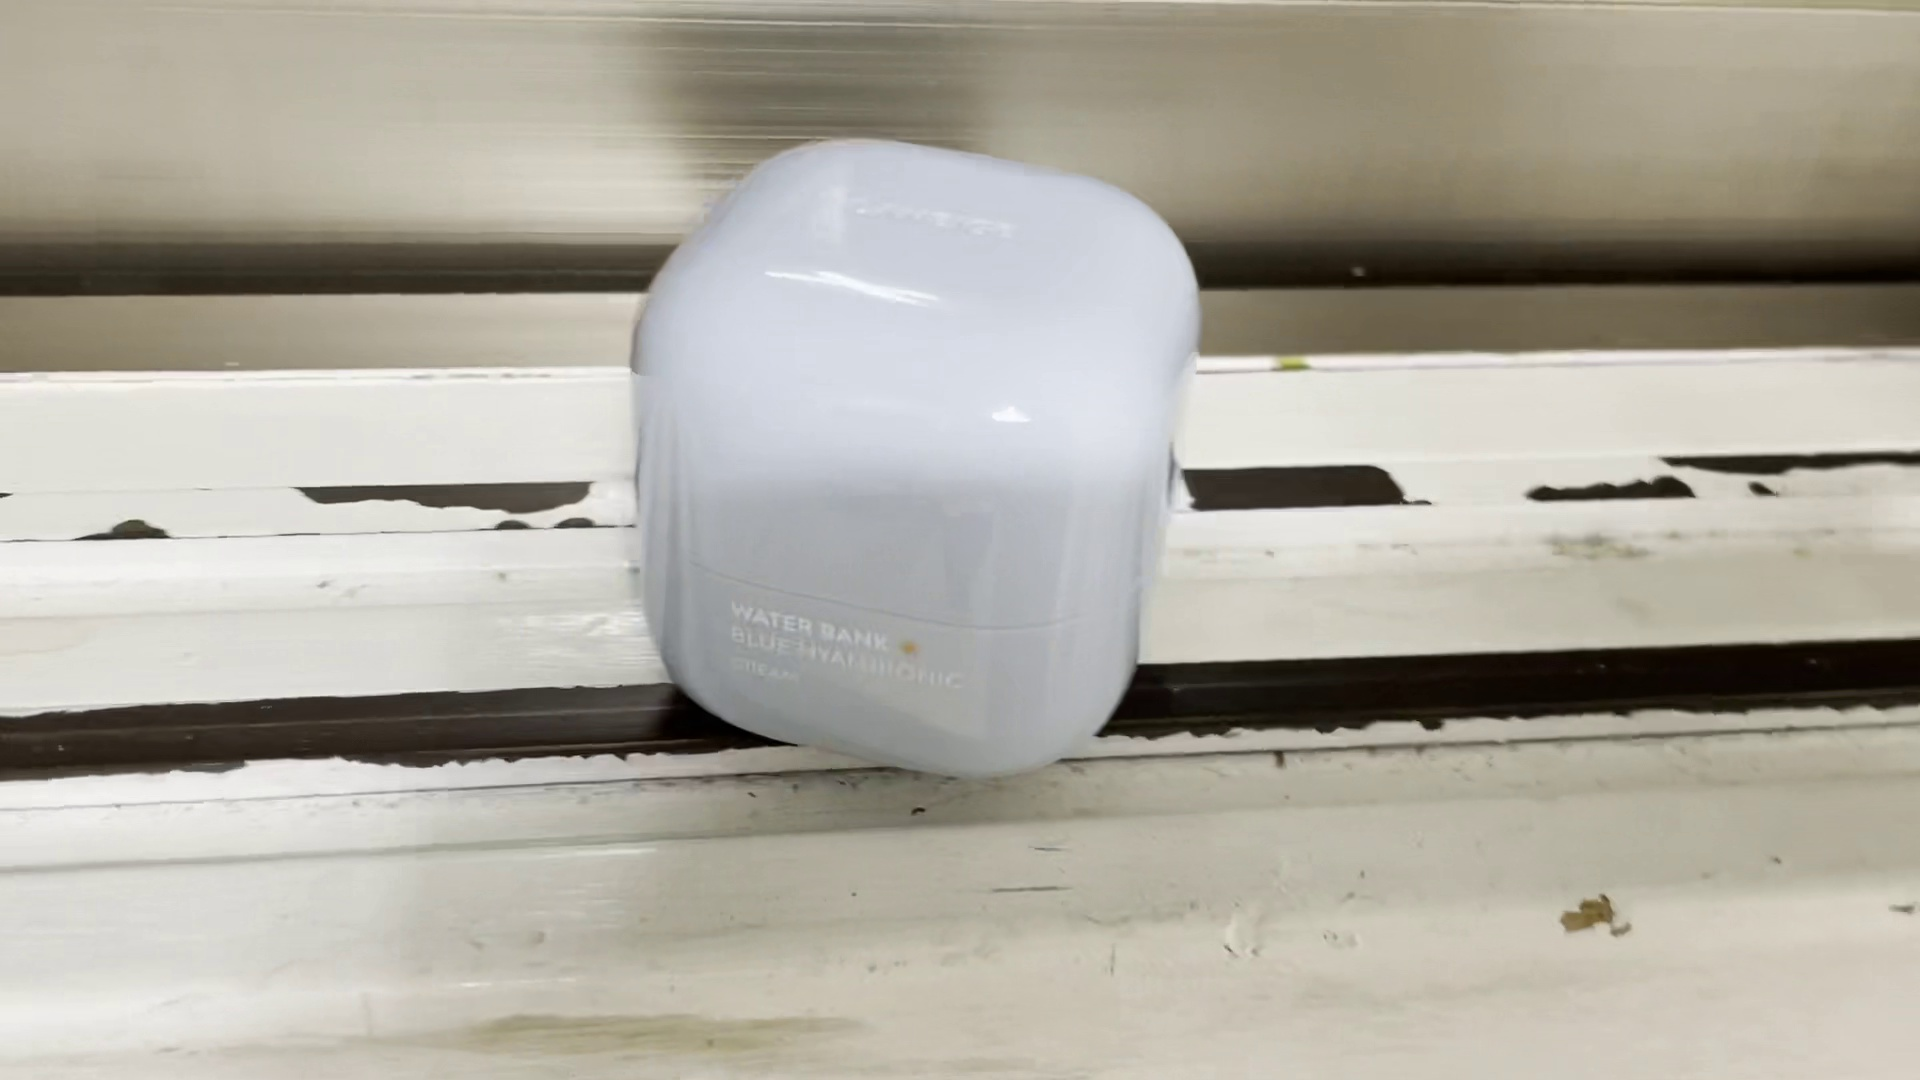cream: (630, 141, 1201, 778)
